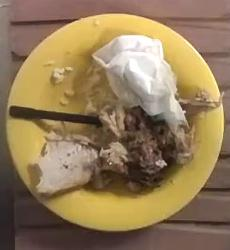pork: (36, 141, 98, 195)
